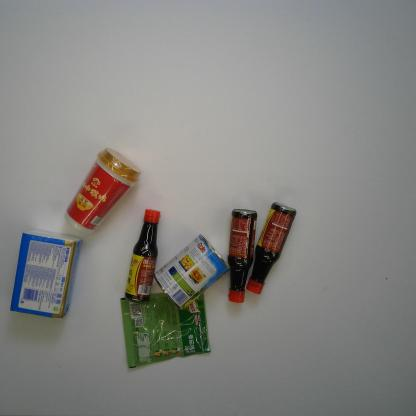Canned Food: (154, 232, 232, 310)
Instant Drink: (64, 146, 142, 235)
Seasoner: (120, 291, 211, 369), (246, 201, 296, 297), (124, 208, 160, 305), (228, 208, 258, 304)
Tissue: (9, 229, 82, 318)
